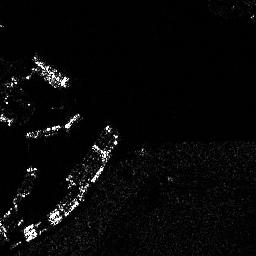ship: (31, 56, 69, 88)
